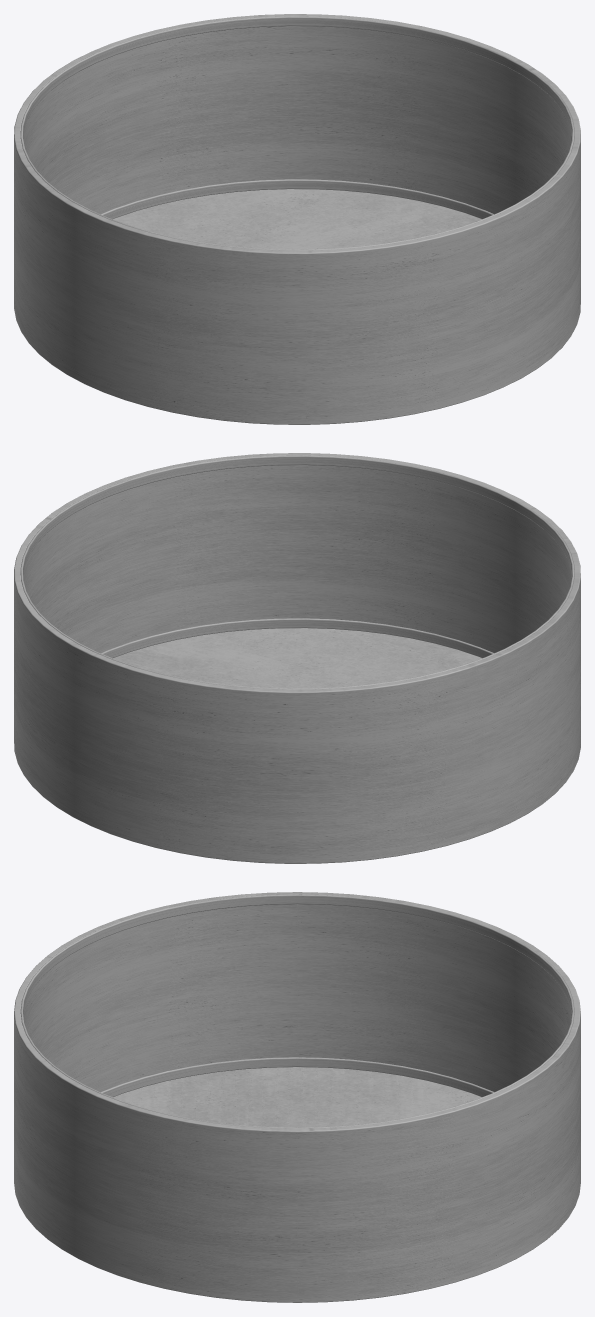
File: vrgallery.glb
The picture shows the model from 3 angles, top to bottom: view 1: azimuth 30°, elevation 25°; view 2: azimuth 150°, elevation 25°; view 3: azimuth 270°, elevation 25°; orthographic projection.
Parts seen in each view (by area): view 1: Tube, Cylinder 2, Tube 2, Tube 1; view 2: Tube, Cylinder 2, Tube 2, Tube 1; view 3: Tube, Cylinder 2, Tube 2, Tube 1.
Part boxes in pixels (left/top/right/bottom): Tube: left=14, top=14, right=580, bottom=424; Cylinder 2: left=113, top=189, right=481, bottom=249; Tube 2: left=20, top=16, right=574, bottom=250; Tube 1: left=101, top=179, right=493, bottom=219; Tube: left=14, top=453, right=580, bottom=863; Cylinder 2: left=113, top=628, right=481, bottom=688; Tube 2: left=20, top=455, right=574, bottom=689; Tube 1: left=101, top=618, right=493, bottom=658; Tube: left=14, top=892, right=580, bottom=1302; Cylinder 2: left=113, top=1067, right=481, bottom=1127; Tube 2: left=20, top=894, right=574, bottom=1128; Tube 1: left=101, top=1057, right=493, bottom=1096.
Size of the model in its own units: 1.98 by 0.6644 by 1.98.
Materials: 1 (1 with a texture image).
